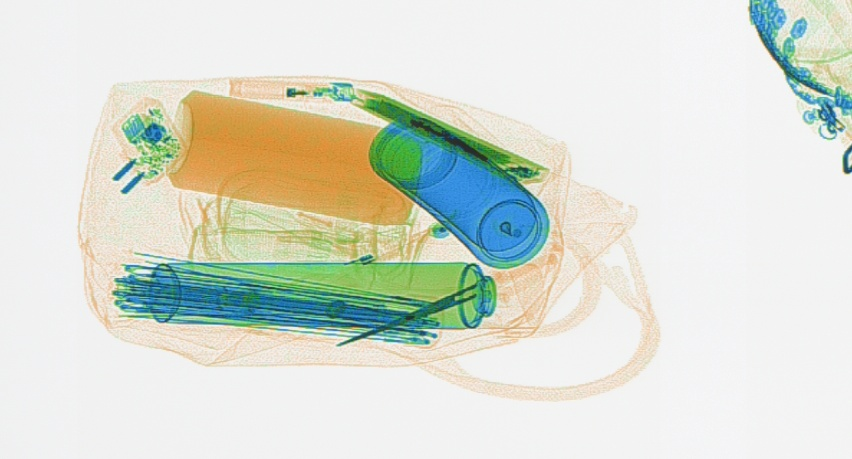lighter: (222, 72, 356, 106)
pressure: (147, 262, 551, 329)
scissors: (334, 273, 485, 348)
